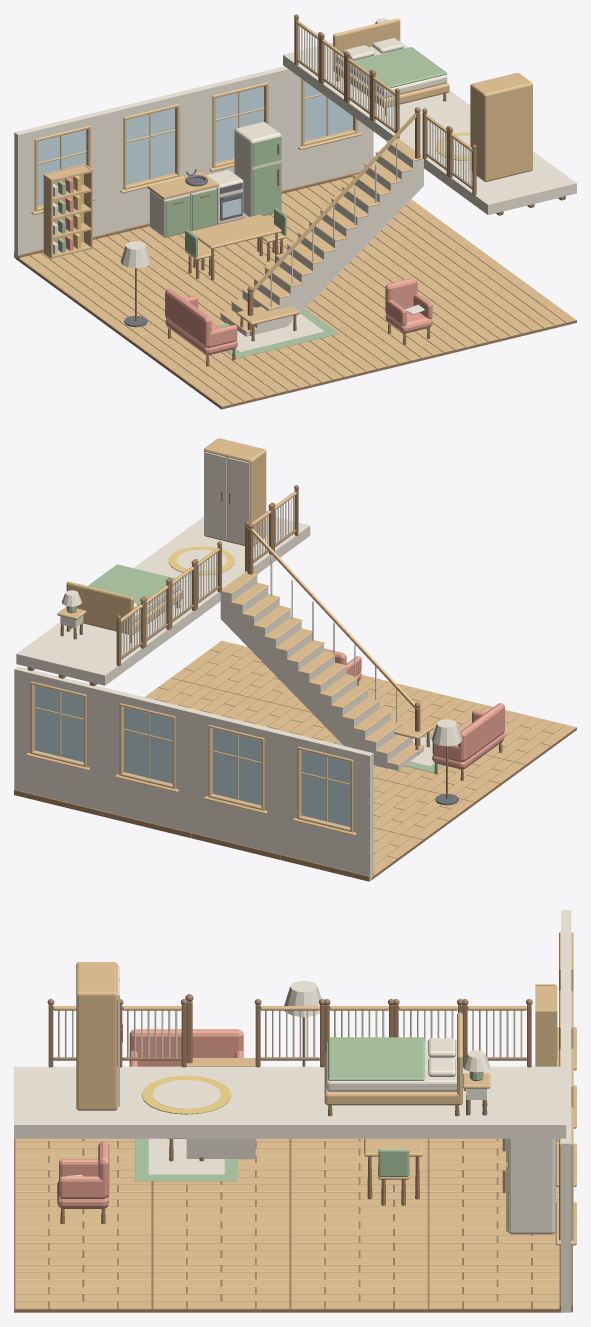
File: cozy-home-interiors-two-storey-cutaway-home-4a617fd1.glb
The picture shows the model from 3 angles, top to bottom: view 1: azimuth 30°, elevation 25°; view 2: azimuth 150°, elevation 25°; view 3: azimuth 270°, elevation 25°; orthographic projection. The views are drawn at different scales.
Visible parts, largest first — view 1: 042-stair-flight/0, 047-wardrobe/0, 042-stair-flight/1, 016-wall-window-2m/0, 017-wall-window-2m/0, 019-wall-window-2m/0, 015-floor-wood-2m/1, 014-floor-wood-2m/1, 003-floor-wood-2m/1, 023-ceiling-deck-2m/0, 007-floor-wood-2m/1, 000-floor-wood-2m/1 (+54 smaller); view 2: 042-stair-flight/0, 016-wall-window-2m/0, 019-wall-window-2m/0, 018-wall-window-2m/0, 017-wall-window-2m/0, 042-stair-flight/1, 020-ceiling-deck-2m/0, 047-wardrobe/1, 015-floor-wood-2m/1, 001-floor-wood-2m/1, 016-wall-window-2m/3, 002-floor-wood-2m/1 (+31 smaller); view 3: 015-floor-wood-2m/1, 014-floor-wood-2m/1, 013-floor-wood-2m/1, 023-ceiling-deck-2m/0, 010-floor-wood-2m/1, 009-floor-wood-2m/1, 020-ceiling-deck-2m/0, 012-floor-wood-2m/1, 022-ceiling-deck-2m/0, 011-floor-wood-2m/1, 047-wardrobe/0, 021-ceiling-deck-2m/0 (+40 smaller).
Boxes of the visible parts, left/top/right/bottom form: 042-stair-flight/0: left=220, top=142, right=423, bottom=336; 047-wardrobe/0: left=470, top=73, right=532, bottom=181; 042-stair-flight/1: left=220, top=113, right=422, bottom=332; 016-wall-window-2m/0: left=14, top=110, right=106, bottom=258; 017-wall-window-2m/0: left=103, top=89, right=195, bottom=233; 019-wall-window-2m/0: left=281, top=66, right=373, bottom=189; 015-floor-wood-2m/1: left=437, top=282, right=575, bottom=341; 014-floor-wood-2m/1: left=386, top=245, right=524, bottom=304; 003-floor-wood-2m/1: left=171, top=352, right=309, bottom=406; 023-ceiling-deck-2m/0: left=436, top=151, right=576, bottom=214; 007-floor-wood-2m/1: left=265, top=326, right=398, bottom=385; 000-floor-wood-2m/1: left=19, top=236, right=155, bottom=294; 042-stair-flight/0: left=220, top=558, right=423, bottom=771; 016-wall-window-2m/0: left=281, top=731, right=373, bottom=881; 019-wall-window-2m/0: left=14, top=666, right=106, bottom=810; 018-wall-window-2m/0: left=103, top=688, right=195, bottom=832; 017-wall-window-2m/0: left=192, top=710, right=284, bottom=854; 042-stair-flight/1: left=221, top=529, right=424, bottom=765; 020-ceiling-deck-2m/0: left=16, top=622, right=156, bottom=685; 047-wardrobe/1: left=204, top=452, right=249, bottom=544; 015-floor-wood-2m/1: left=171, top=640, right=282, bottom=699; 001-floor-wood-2m/1: left=373, top=781, right=473, bottom=839; 016-wall-window-2m/3: left=301, top=750, right=350, bottom=826; 002-floor-wood-2m/1: left=386, top=755, right=524, bottom=802; 015-floor-wood-2m/1: left=14, top=1250, right=151, bottom=1309; 014-floor-wood-2m/1: left=152, top=1250, right=289, bottom=1309; 013-floor-wood-2m/1: left=291, top=1250, right=427, bottom=1309; 023-ceiling-deck-2m/0: left=14, top=1066, right=151, bottom=1138; 010-floor-wood-2m/1: left=152, top=1192, right=289, bottom=1250; 009-floor-wood-2m/1: left=291, top=1192, right=427, bottom=1250; 020-ceiling-deck-2m/0: left=428, top=1066, right=566, bottom=1138; 012-floor-wood-2m/1: left=429, top=1250, right=559, bottom=1309; 022-ceiling-deck-2m/0: left=152, top=1066, right=290, bottom=1138; 011-floor-wood-2m/1: left=14, top=1192, right=151, bottom=1250; 047-wardrobe/0: left=76, top=962, right=117, bottom=1110; 021-ceiling-deck-2m/0: left=290, top=1066, right=428, bottom=1138.
Size of the model in its own units: 8 by 4.9 by 8.16.
